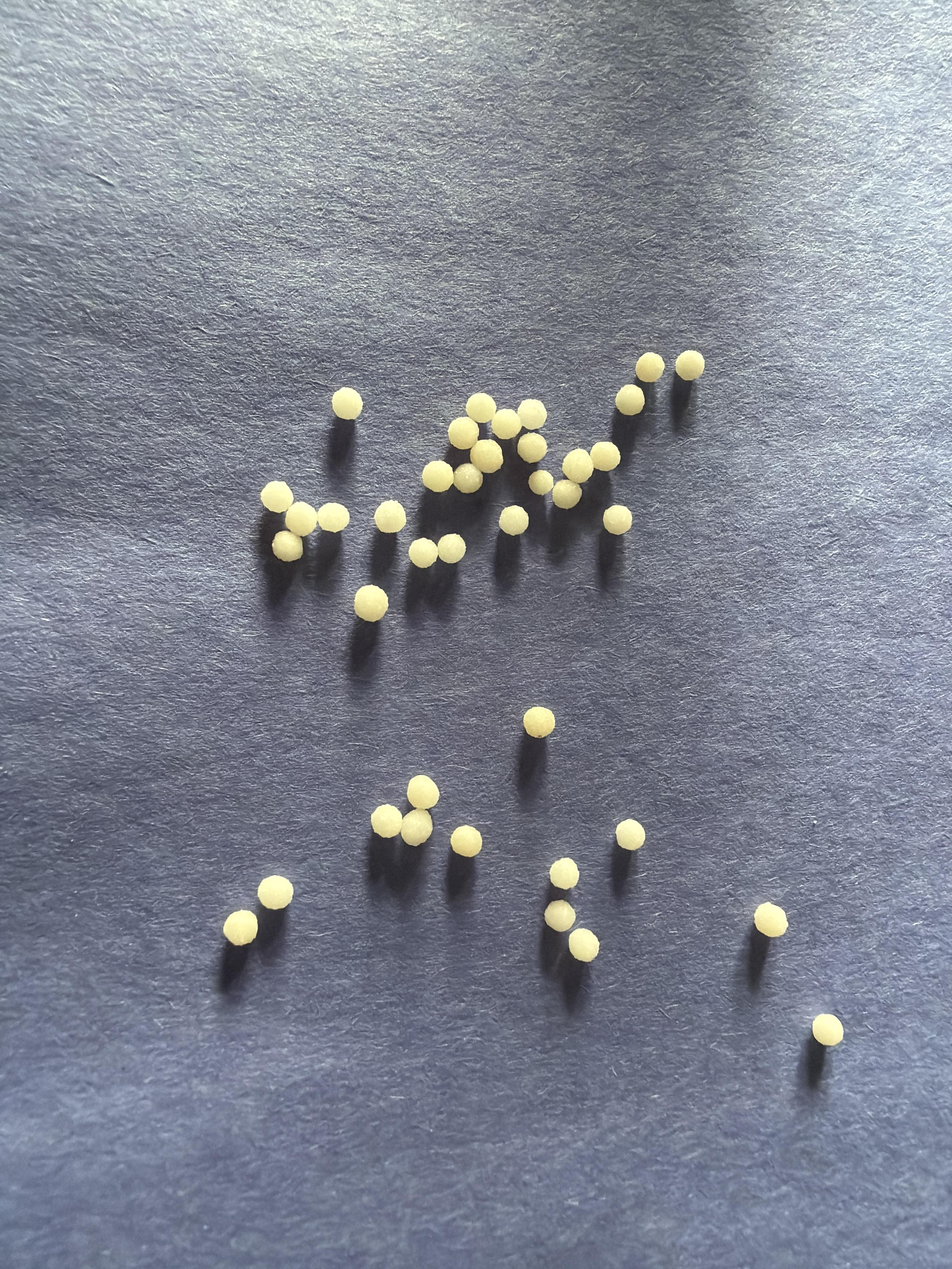pill: (371, 775, 439, 846), (257, 875, 293, 910), (223, 910, 258, 946), (354, 585, 388, 622), (754, 902, 788, 938), (285, 501, 318, 537), (401, 808, 432, 846), (470, 438, 503, 473), (407, 775, 439, 810), (562, 448, 593, 484), (371, 804, 403, 838), (569, 927, 600, 962), (374, 500, 406, 533), (260, 481, 293, 513), (448, 416, 479, 450), (543, 900, 575, 932), (332, 387, 363, 420), (524, 706, 555, 738), (450, 826, 482, 857), (272, 530, 303, 562), (318, 502, 350, 533), (422, 460, 453, 492), (812, 1014, 843, 1046), (549, 857, 579, 890), (498, 505, 529, 536), (615, 819, 645, 851), (589, 441, 620, 471), (466, 392, 496, 423), (517, 399, 547, 430), (491, 409, 522, 439), (517, 432, 547, 463), (454, 462, 483, 494), (635, 352, 665, 382), (408, 538, 438, 568), (615, 385, 644, 416), (437, 533, 466, 564), (675, 350, 704, 381), (603, 505, 632, 535), (552, 479, 581, 509), (528, 471, 554, 495)
